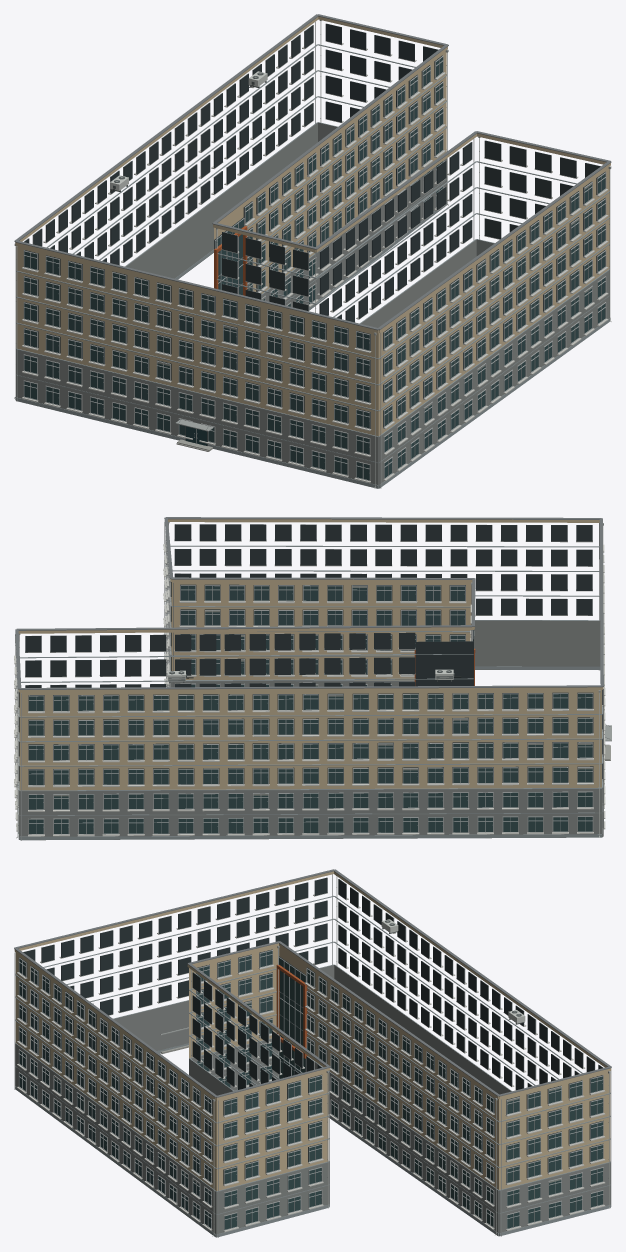
File: osm_way_1173057056.glb
3 renders of one model, top to bottom at view 1: azimuth 30°, elevation 25°; view 2: azimuth 150°, elevation 25°; view 3: azimuth 270°, elevation 25°, orthographic. The views are drawn at different scales.
Parts seen in each view (by area): view 1: Windows and facade details | 南京邮电大学-文科楼, Architecture | 南京邮电大学-文科楼, Roof services | 南京邮电大学-文科楼, EXTERIOR::osm_way_1173057056::rainwater and roof service det, EXTERIOR::osm_way_1173057056::inferred entry doors canopy an; view 2: Windows and facade details | 南京邮电大学-文科楼, Architecture | 南京邮电大学-文科楼, Roof services | 南京邮电大学-文科楼, EXTERIOR::osm_way_1173057056::rainwater and roof service det, EXTERIOR::osm_way_1173057056::native pane seals and hardware; view 3: Windows and facade details | 南京邮电大学-文科楼, Architecture | 南京邮电大学-文科楼, Roof services | 南京邮电大学-文科楼, EXTERIOR::osm_way_1173057056::rainwater and roof service det.
Boxes of the visible parts, x1,y1,x2,y2 form: Windows and facade details | 南京邮电大学-文科楼: (16,22,608,488); Architecture | 南京邮电大学-文科楼: (15,16,610,488); Roof services | 南京邮电大学-文科楼: (14,14,611,330); EXTERIOR::osm_way_1173057056::rainwater and roof service det: (14,20,611,488); EXTERIOR::osm_way_1173057056::inferred entry doors canopy an: (175,416,213,451); Windows and facade details | 南京邮电大学-文科楼: (14,522,605,840); Architecture | 南京邮电大学-文科楼: (18,519,603,840); Roof services | 南京邮电大学-文科楼: (15,517,603,689); EXTERIOR::osm_way_1173057056::rainwater and roof service det: (16,522,603,838); EXTERIOR::osm_way_1173057056::native pane seals and hardware: (43,586,592,827); Windows and facade details | 南京邮电大学-文科楼: (14,874,611,1237); Architecture | 南京邮电大学-文科楼: (14,871,611,1237); Roof services | 南京邮电大学-文科楼: (14,869,611,1097); EXTERIOR::osm_way_1173057056::rainwater and roof service det: (191,876,610,1236).
Size of the model in its own units: 79.01 by 23.58 by 87.54.
